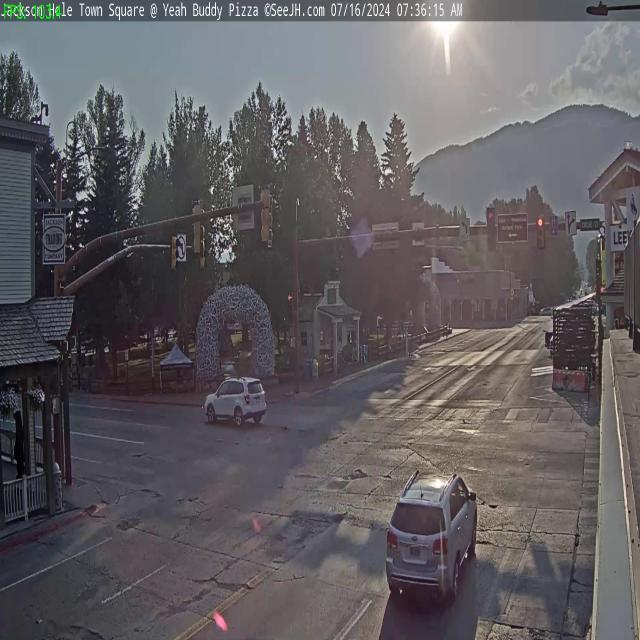suv: (382, 465, 482, 602), (202, 374, 266, 430)
traffic light: (190, 198, 203, 256), (260, 184, 272, 244), (486, 207, 496, 252), (170, 233, 179, 272), (536, 215, 544, 248)
